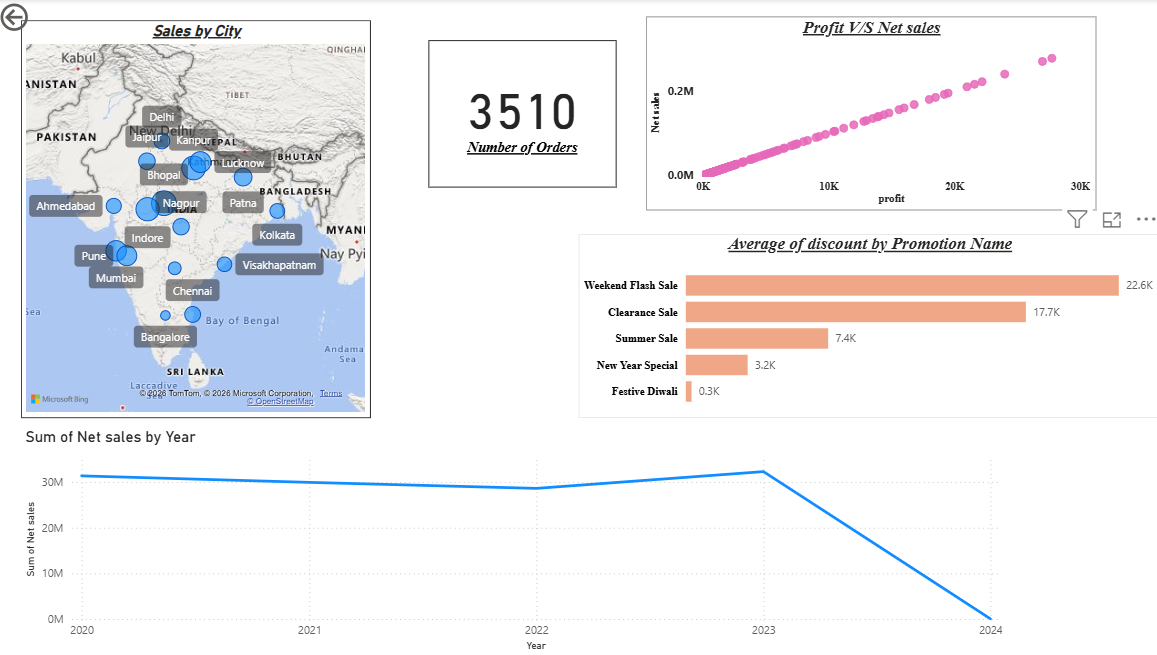

This screenshot's page, from the dashboard's own definition file:
{"tool":"powerbi","page":{"name":"Overview","canvas":[1280,720],"ordinal":0},"visuals":[{"type":"scatterChart","title":"Profit V/S Net sales","fields":{"X":["fact table.profit"],"Y":["Sum(fact table.Net sales.1)"]},"box":[712.9,19.6,494,212.8],"z":0},{"type":"barChart","fields":{"Y":["Avg(fact table.discount)"],"Category":["Dim Promotion.Promotion Name"]},"box":[639.5,258,640.8,201.8],"z":1000},{"type":"map","title":"Sales by City","fields":{"Category":["Dim Customers.City"],"Size":["Sum(fact table.Net sales)"]},"box":[28.1,23.2,384,436.6],"z":2000},{"type":"card","fields":{"Values":["Count(fact table.Order ID)"]},"box":[474.5,45.2,206.7,161.4],"z":3000},{"type":"lineChart","fields":{"Y":["Sum(fact table.Net sales)"],"Category":["Date table 1.Date.Variation.Date Hierarchy.Year","Date table 1.Date.Variation.Date Hierarchy.Quarter","Date table 1.Date.Variation.Date Hierarchy.Month","Date table 1.Date.Variation.Date Hierarchy.Day"]},"box":[27.5,470,1082.5,250],"z":4000},{"type":"actionButton","box":[0,0,100,40],"z":5000}]}

Visuals, with their boxes in screenshot pixels (x1, y1, x2, y2), scaled from the page's 1280x720 canvas onto the 1157x655 screenshot:
"Profit V/S Net sales" scatterChart: region(644, 18, 1091, 211)
barChart - Avg(fact table.discount) x Dim Promotion.Promotion Name: region(578, 235, 1156, 418)
"Sales by City" map: region(25, 21, 372, 418)
card - Count(fact table.Order ID): region(429, 41, 616, 188)
lineChart - Sum(fact table.Net sales) x Date table 1.Date.Variation.Date Hierarchy.Year: region(25, 428, 1003, 654)
actionButton: region(0, 0, 90, 36)
